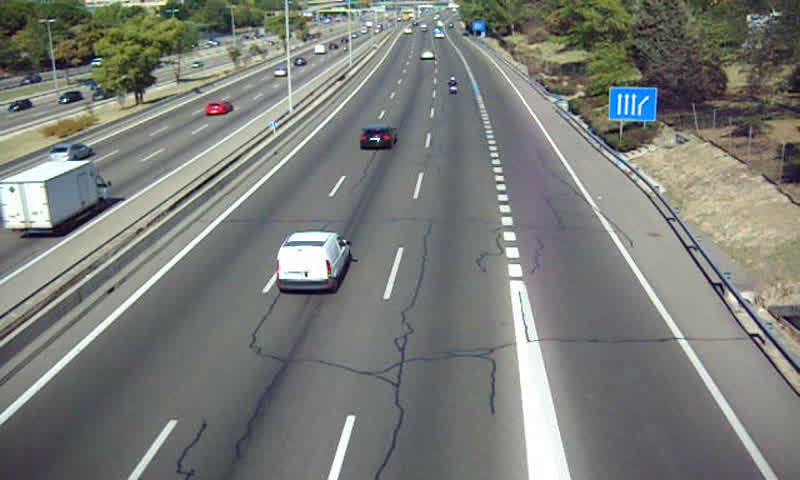car: (358, 126, 396, 152), (420, 51, 435, 62)
motorcycle: (446, 76, 460, 96)
van: (272, 232, 351, 293)
